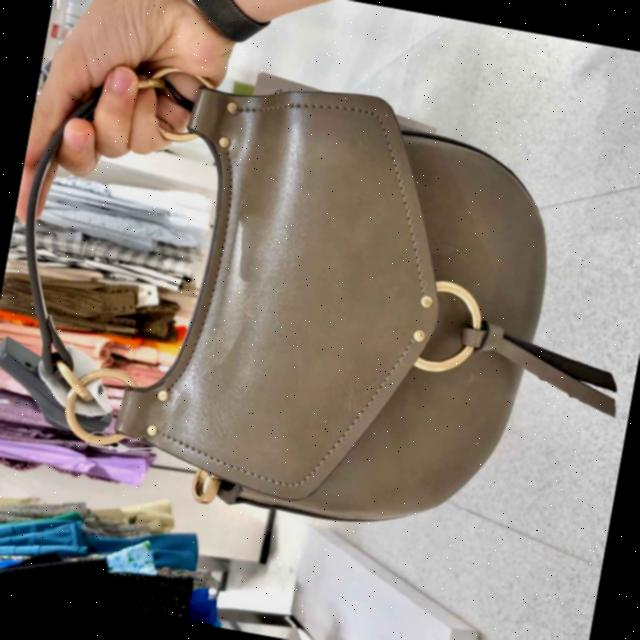Handbag: (93, 51, 570, 546)
